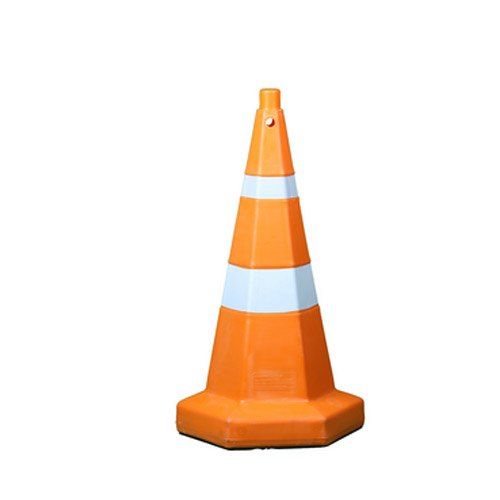cones: (167, 84, 370, 451)
